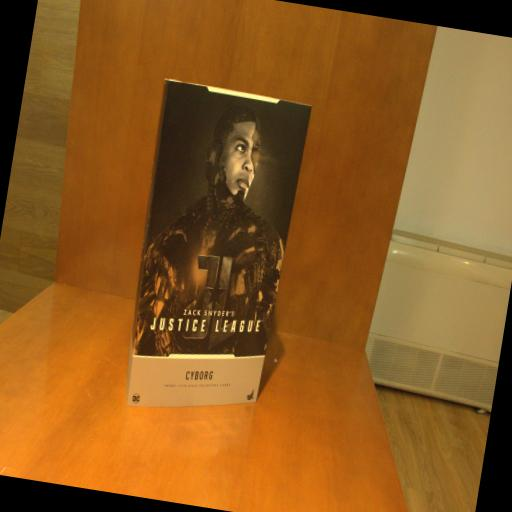Cyborg: (112, 74, 313, 428)
